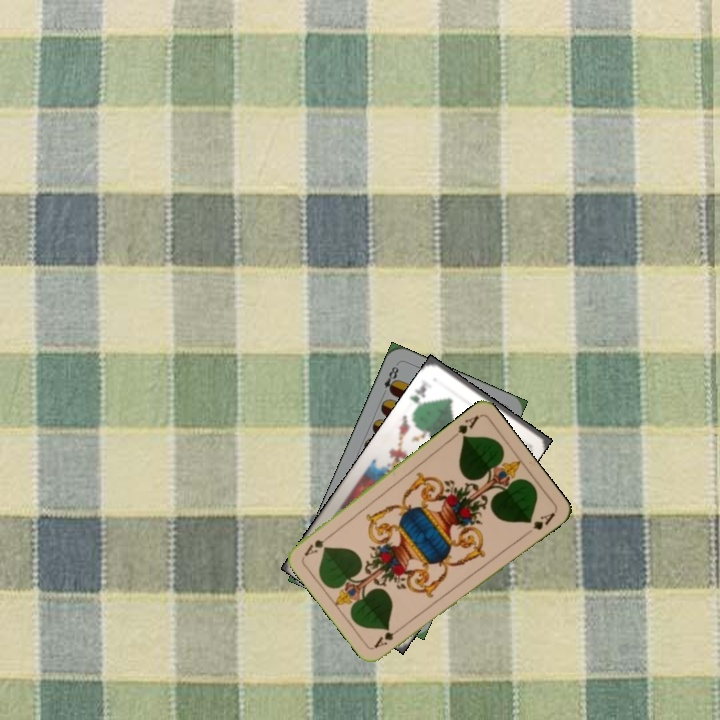E8: (378, 360, 401, 398)
GA: (447, 411, 482, 442), (370, 622, 406, 651)
GK: (406, 379, 429, 412)
